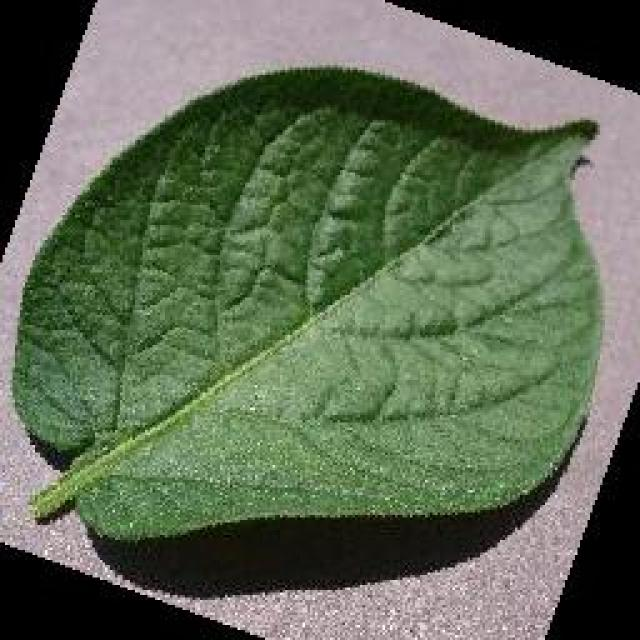Potato___healthy: (12, 65, 605, 542)
